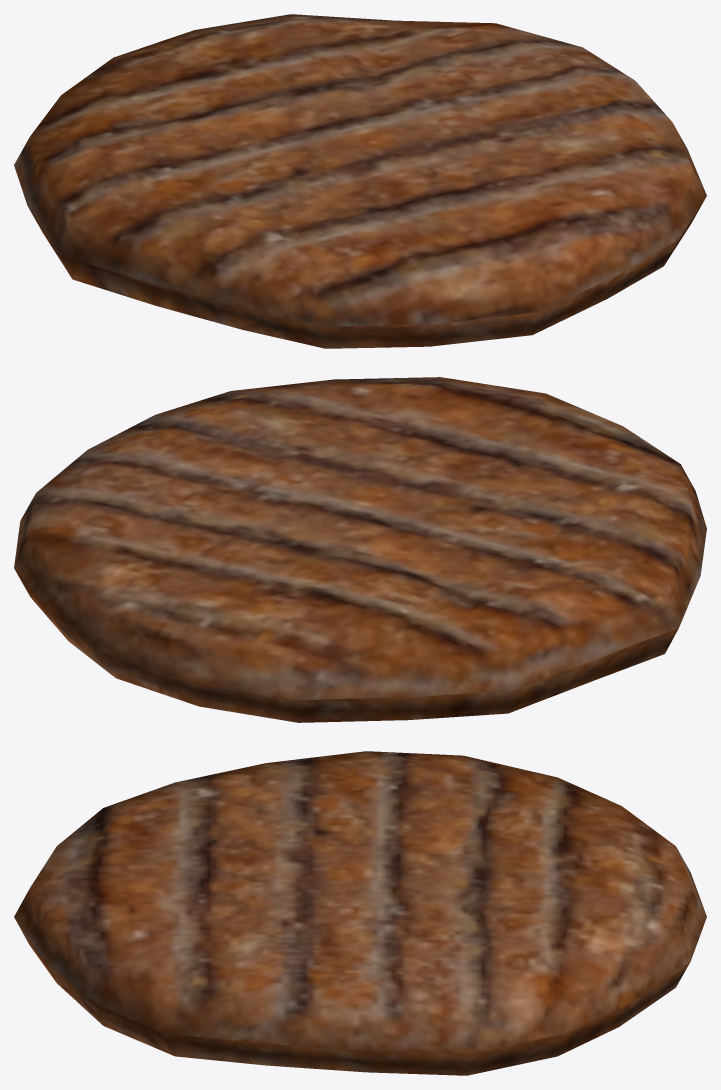
The model's file is chopped_steak (1).FBX.
3 renders of one model, top to bottom at view 1: azimuth 30°, elevation 25°; view 2: azimuth 150°, elevation 25°; view 3: azimuth 270°, elevation 25°, orthographic. The views are drawn at different scales.
Visible parts, largest first — view 1: chopped_steak__LOD00; view 2: chopped_steak__LOD00; view 3: chopped_steak__LOD00.
Part boxes in pixels (x1,y1,x2,y2): chopped_steak__LOD00: [14, 14, 706, 348]; chopped_steak__LOD00: [14, 377, 706, 722]; chopped_steak__LOD00: [14, 751, 706, 1075].
Size of what is drawn, in the model's own units: 13.44 by 2.06 by 13.97.
